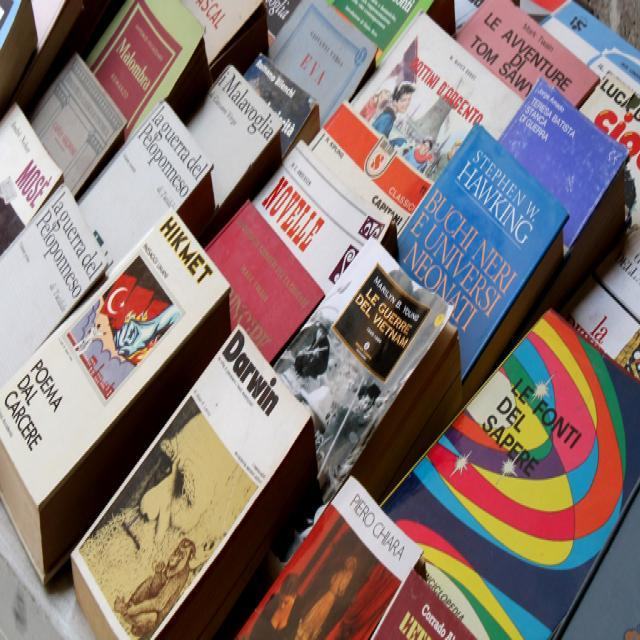book: (0, 210, 231, 590), (69, 322, 325, 640)
